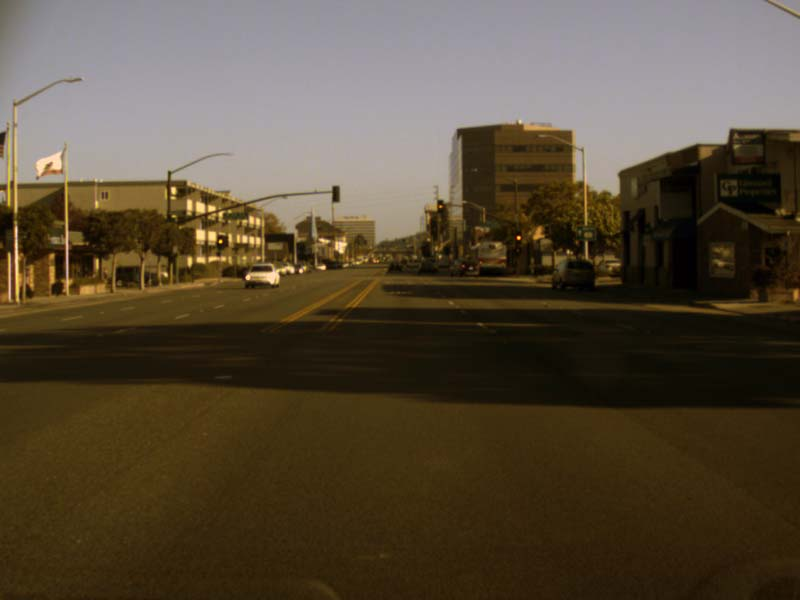Yellow: (437, 199, 444, 213), (515, 230, 522, 244), (217, 235, 223, 249)
